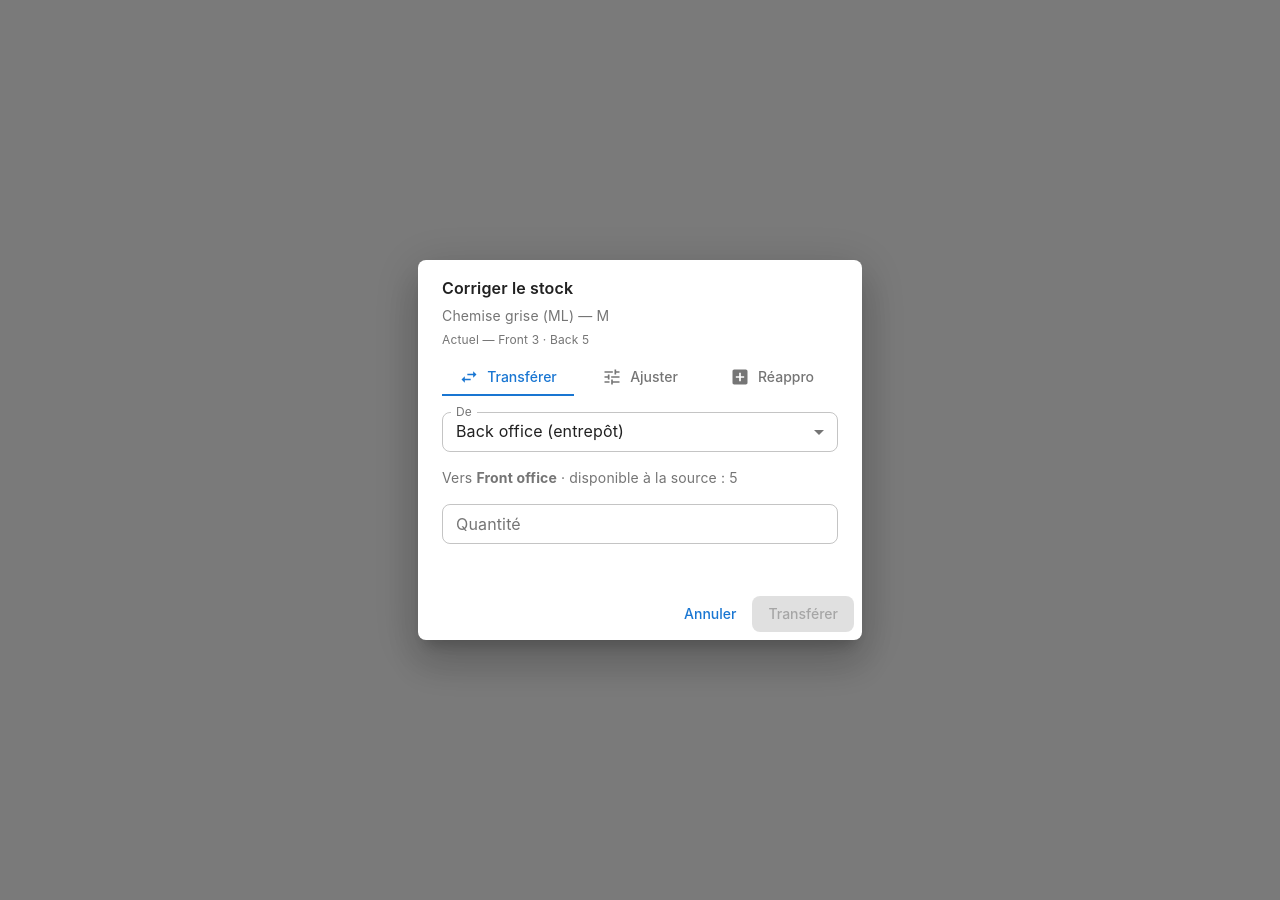
Test case: StockQuickFixDialog › désactive le bouton Transférer et signale une erreur quand la quantité dépasse le stock disponible
In the number field labelled "Quantité": (640, 524) [442,504,838,544], type "9"
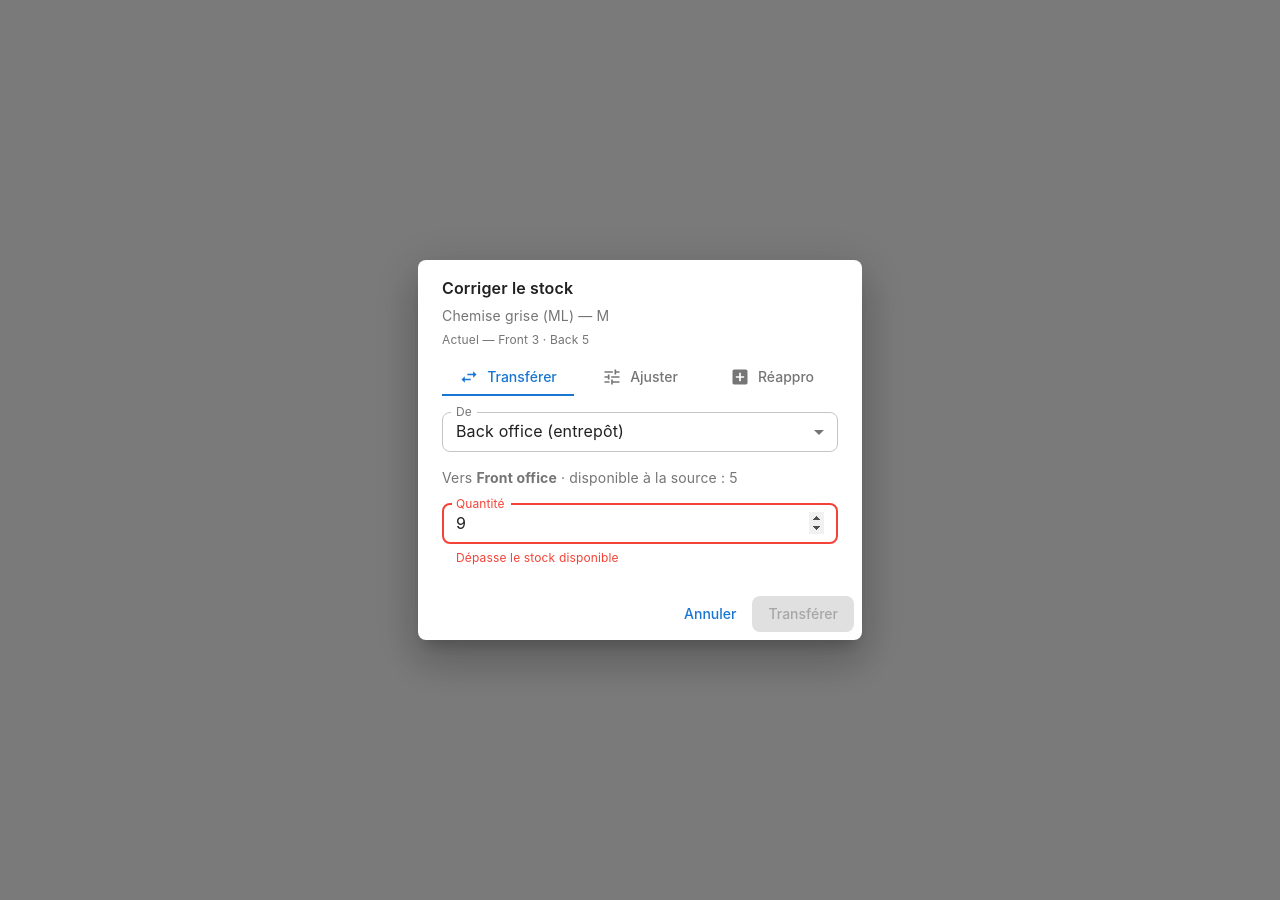
Expected: the button "Transférer" is disabled, [752,596,854,632]
Expected: the text "Dépasse le stock disponible" is shown, [456,550,619,565]
